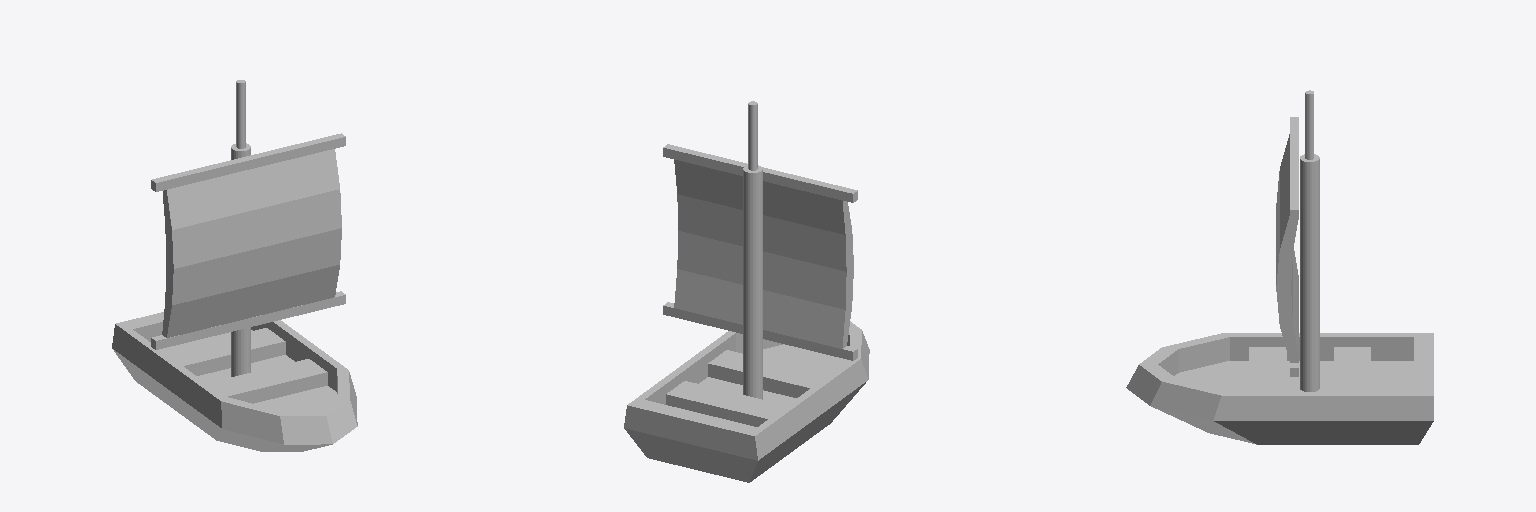
The model's file is boat_level0.obj.
3 renders of one model, left to right at view 1: azimuth 30°, elevation 25°; view 2: azimuth 150°, elevation 25°; view 3: azimuth 270°, elevation 25°, orthographic.
Visible parts, largest first — view 1: Mesh12_Group14_Group12_Group1_Model, Mesh1_Group1_Model, Mesh13_Group15_Group12_Group1_Model; view 2: Mesh12_Group14_Group12_Group1_Model, Mesh1_Group1_Model, Mesh13_Group15_Group12_Group1_Model; view 3: Mesh1_Group1_Model, Mesh13_Group15_Group12_Group1_Model, Mesh12_Group14_Group12_Group1_Model.
Part boxes in pixels (left/top/right/bottom): Mesh12_Group14_Group12_Group1_Model: left=151, top=133, right=345, bottom=349; Mesh1_Group1_Model: left=112, top=312, right=357, bottom=451; Mesh13_Group15_Group12_Group1_Model: left=231, top=80, right=250, bottom=376; Mesh12_Group14_Group12_Group1_Model: left=663, top=144, right=857, bottom=360; Mesh1_Group1_Model: left=624, top=321, right=869, bottom=482; Mesh13_Group15_Group12_Group1_Model: left=743, top=101, right=762, bottom=399; Mesh1_Group1_Model: left=1126, top=333, right=1433, bottom=444; Mesh13_Group15_Group12_Group1_Model: left=1300, top=90, right=1319, bottom=391; Mesh12_Group14_Group12_Group1_Model: left=1276, top=117, right=1298, bottom=376.
Bounding box in the file's own units: 2.53 × 4.16 × 3.55.